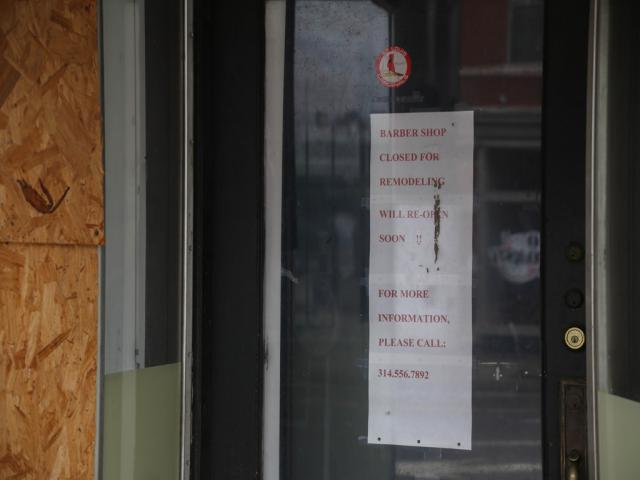Door-handle: (567, 450, 579, 480)
